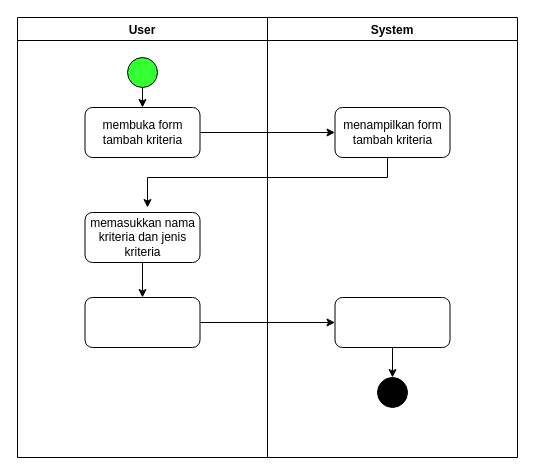
The diagram is 535 pixels wide and 475 high, and some of its shapes have lost their labels. The centre of each missing label's shape, as x and y in pixels:
"menekan button simpan" belongs at [142,322].
"menyimpan pada database" belongs at [392,322].
